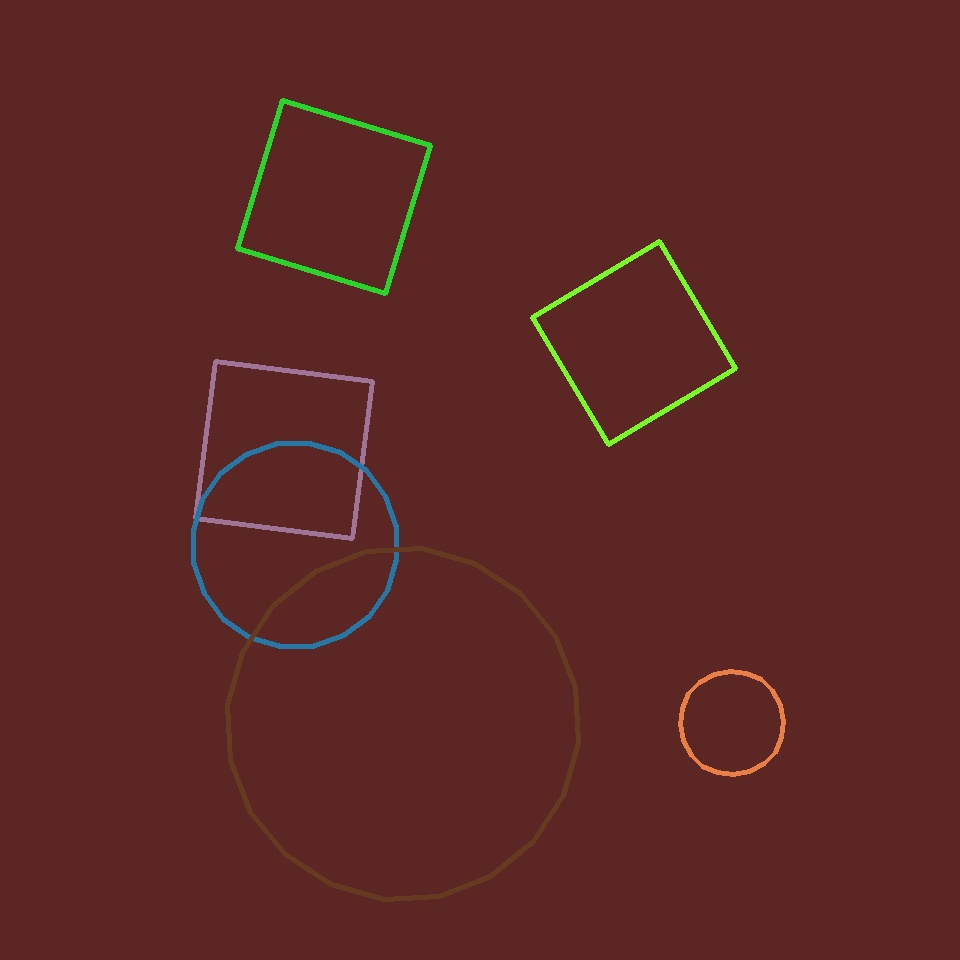square: (532, 242, 736, 444), (237, 100, 430, 294), (196, 362, 373, 538)
triangle: (228, 548, 578, 900), (194, 444, 396, 646), (680, 672, 783, 774)
